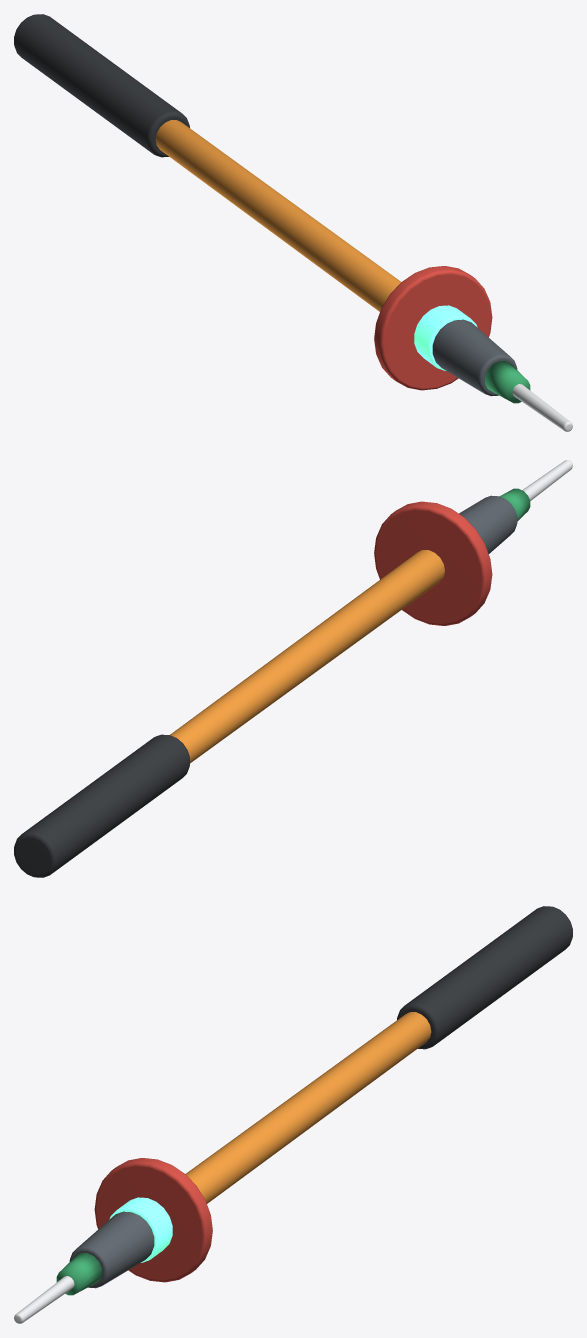
Rendered from proving-wand.glb.
3 renders of one model, top to bottom at view 1: azimuth 30°, elevation 25°; view 2: azimuth 150°, elevation 25°; view 3: azimuth 330°, elevation 25°, orthographic.
Parts seen in each view (by area): view 1: ProvingWandMesh; view 2: ProvingWandMesh; view 3: ProvingWandMesh.
Boxes of the visible parts, left/top/right/bottom form: ProvingWandMesh: left=14, top=14, right=572, bottom=431; ProvingWandMesh: left=14, top=460, right=572, bottom=877; ProvingWandMesh: left=14, top=906, right=572, bottom=1323.
Size of the model in its own units: 0.104 by 0.104 by 0.8575.
